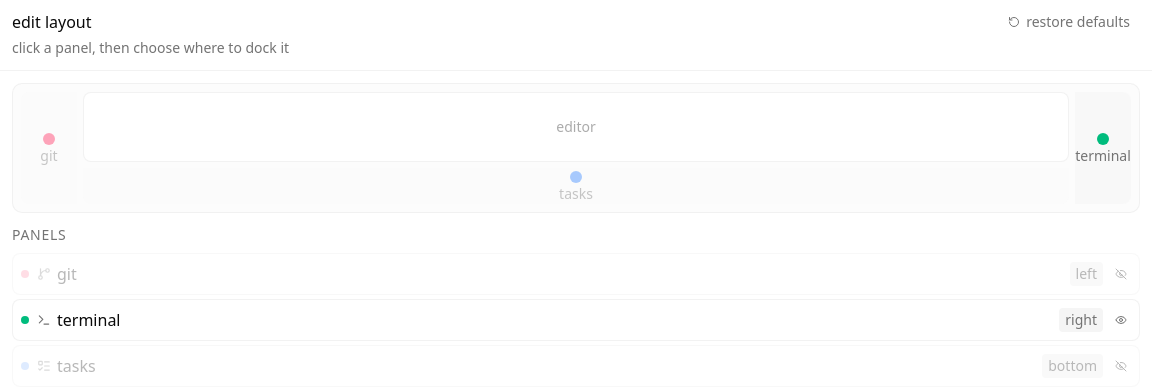
Scenario: panel selection › clicking a different panel switches selection
The width and height of the screenshot is (1152, 389).
Click the element showing "git left" at coordinates (576, 274), box x1=12 y1=253 x2=1140 y2=295
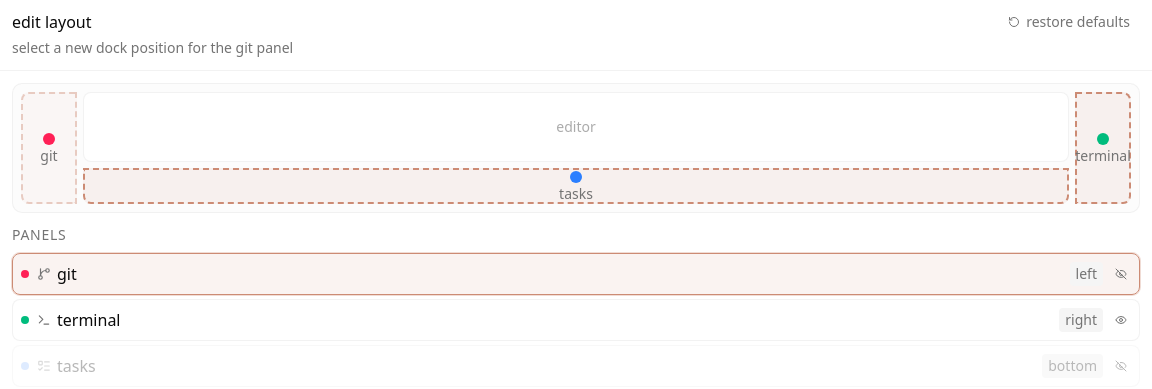
Click the element showing "terminal right" at coordinates (576, 320), box x1=12 y1=299 x2=1140 y2=341
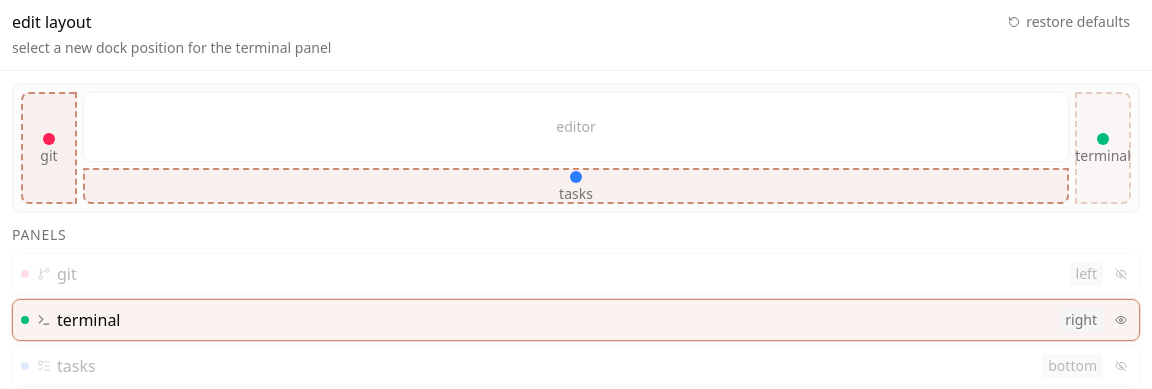
Expected: the text "select a new dock position for the terminal panel" is shown, x1=12 y1=38 x2=331 y2=57
